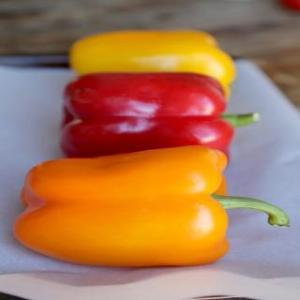bell_pepper: (11, 148, 287, 270), (52, 74, 262, 156), (68, 26, 238, 78)
